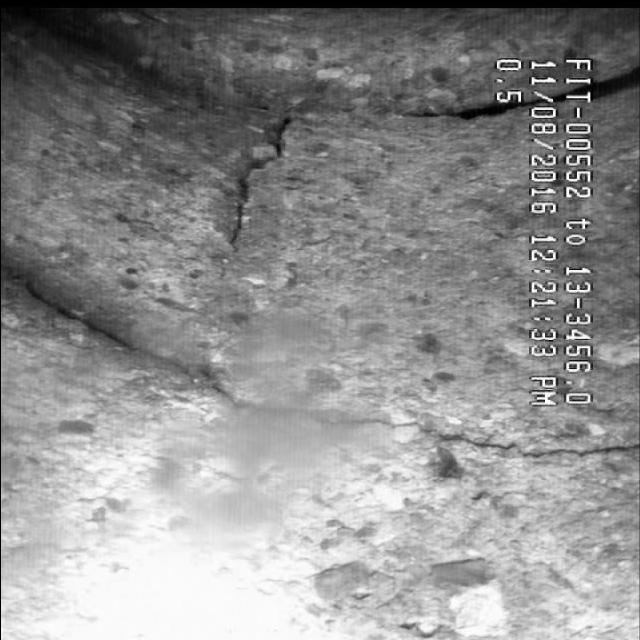Fracture: (95, 382, 608, 494), (170, 92, 338, 371)
